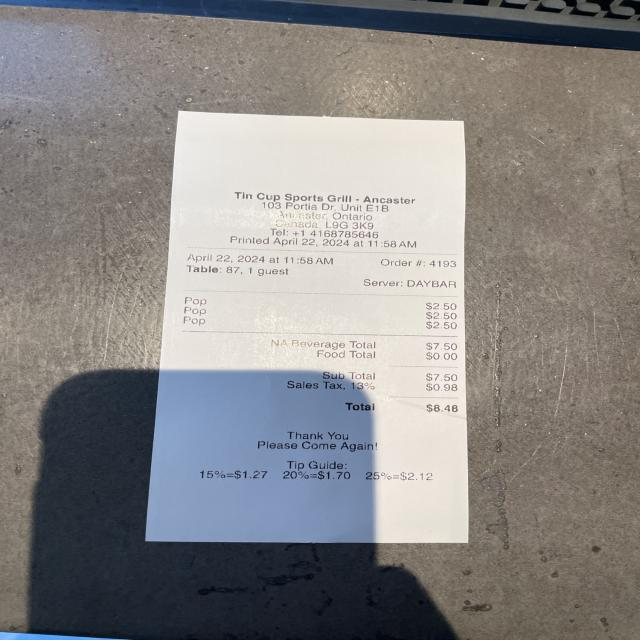item: (179, 315, 460, 331), (179, 295, 460, 311), (180, 306, 460, 322)
store_name: (231, 188, 420, 207)
total_amount: (342, 397, 462, 419)
transaction_date: (180, 250, 269, 265)
